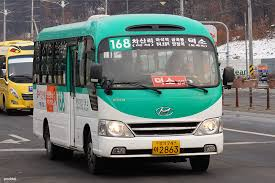bnum: (108, 37, 132, 50)
